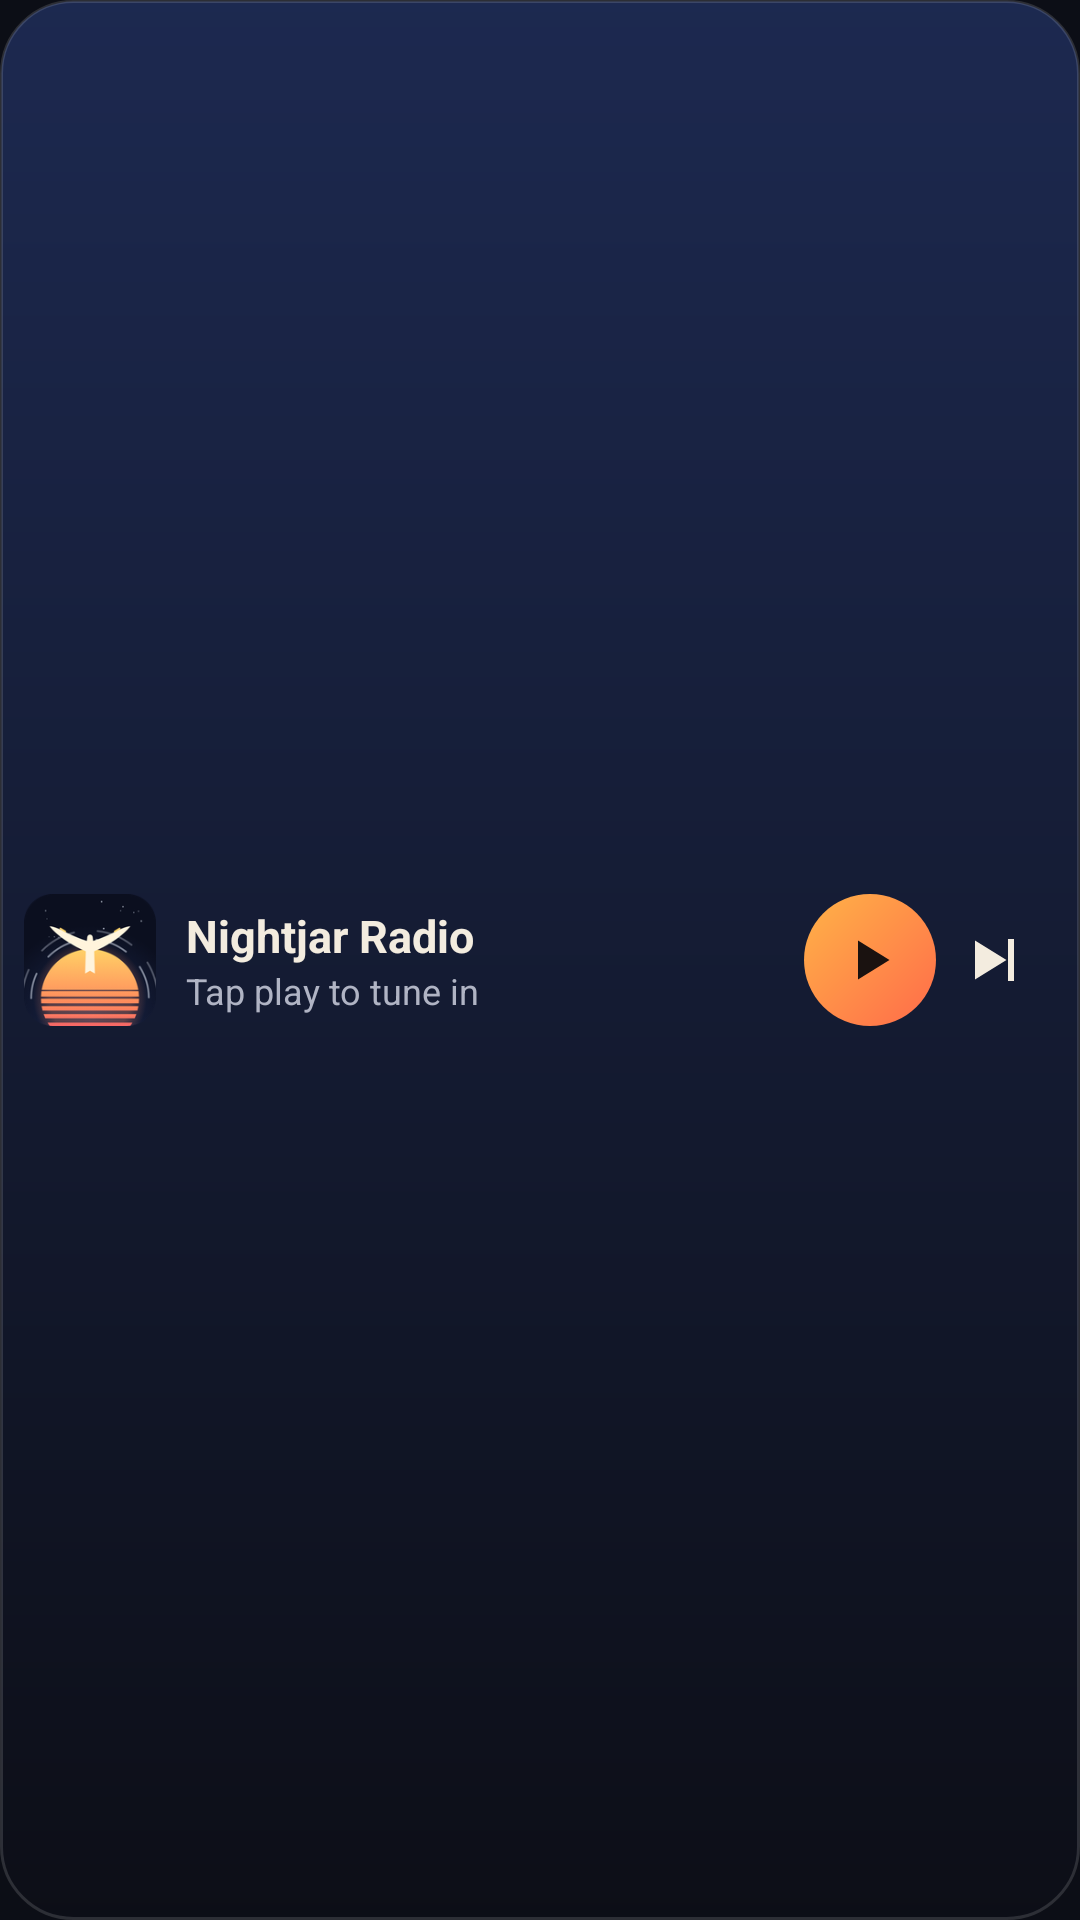

Screen size 1080*1920. Icon name, then its box in pixels as {"left": x1, "top": y1, "right": x2, "bottom": y2}:
Next station: {"left": 975, "top": 939, "right": 1014, "bottom": 981}
Play or pause: {"left": 804, "top": 894, "right": 936, "bottom": 1026}
